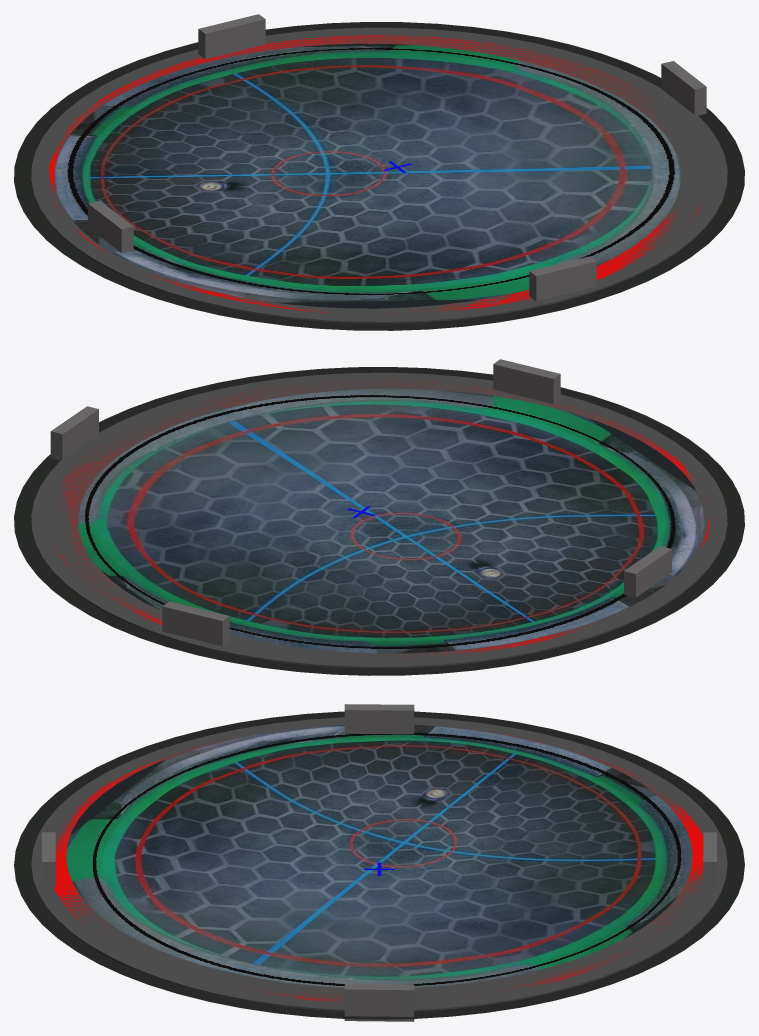
The model's file is 3D Stadium.glb.
3 renders of one model, top to bottom at view 1: azimuth 30°, elevation 25°; view 2: azimuth 150°, elevation 25°; view 3: azimuth 270°, elevation 25°, orthographic.
Visible parts, largest first — view 1: Circle.001, ArenaBase, Circle.002, Circle, Cube.003, Cube.002, Cube, Cube.001; view 2: Circle.001, ArenaBase, Circle.002, Circle, Cube.002, Cube.003, Cube, Cube.001; view 3: Circle.001, ArenaBase, Circle.002, Circle, Cube, Cube.001, Cube.002, Cube.003.
Part boxes in pixels (bbox=[...]): Circle.001: bbox=[54, 43, 680, 308]; ArenaBase: bbox=[31, 27, 727, 323]; Circle.002: bbox=[14, 22, 744, 330]; Circle: bbox=[49, 35, 701, 314]; Cube.003: bbox=[529, 256, 596, 301]; Cube.002: bbox=[198, 14, 265, 58]; Cube: bbox=[661, 61, 706, 115]; Cube.001: bbox=[88, 201, 133, 252]; Circle.001: bbox=[78, 388, 704, 653]; ArenaBase: bbox=[31, 372, 727, 668]; Circle.002: bbox=[14, 367, 744, 675]; Circle: bbox=[56, 380, 710, 658]; Cube.002: bbox=[162, 601, 229, 646]; Cube.003: bbox=[493, 359, 560, 403]; Cube: bbox=[50, 406, 98, 460]; Cube.001: bbox=[624, 546, 671, 597]; Circle.001: bbox=[66, 724, 692, 987]; ArenaBase: bbox=[31, 717, 727, 1011]; Circle.002: bbox=[14, 711, 744, 1019]; Circle: bbox=[54, 730, 703, 1001]; Cube: bbox=[344, 983, 414, 1021]; Cube.001: bbox=[344, 704, 414, 734]; Cube.002: bbox=[703, 832, 716, 886]; Cube.003: bbox=[42, 832, 55, 886].
Bounding box in the file's own units: 21 × 1 × 21.
6 materials, 1 textured.
